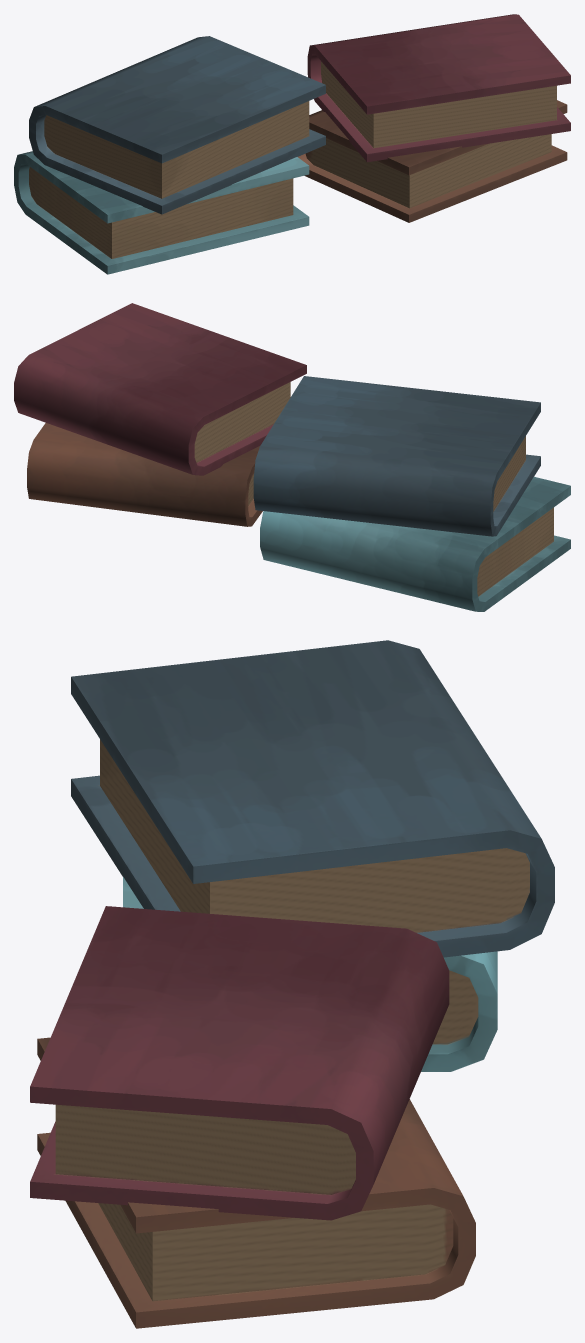
Rendered from Livros.fbx.
3 views of the same model, one above another, from view 1: azimuth 30°, elevation 25°; view 2: azimuth 150°, elevation 25°; view 3: azimuth 270°, elevation 25° (orthographic). The views are drawn at different scales.
Visible parts, largest first — view 1: manstar.025, manstar.033, manstar.032, manstar.026; view 2: manstar.025, manstar.033, manstar.032, manstar.026; view 3: manstar.025, manstar.033, manstar.026, manstar.032.
Part boxes in pixels (left/top/right/bottom): manstar.025: left=29, top=36, right=325, bottom=214; manstar.033: left=307, top=14, right=570, bottom=162; manstar.032: left=14, top=151, right=309, bottom=274; manstar.026: left=298, top=100, right=567, bottom=222; manstar.025: left=253, top=376, right=540, bottom=536; manstar.033: left=14, top=303, right=306, bottom=475; manstar.032: left=260, top=476, right=570, bottom=611; manstar.026: left=27, top=423, right=262, bottom=526; manstar.025: left=71, top=640, right=554, bottom=957; manstar.033: left=30, top=906, right=449, bottom=1220; manstar.026: left=37, top=1037, right=475, bottom=1328; manstar.032: left=123, top=877, right=497, bottom=1071.
Size of the model in its own units: 113 by 27.9 by 55.13.
